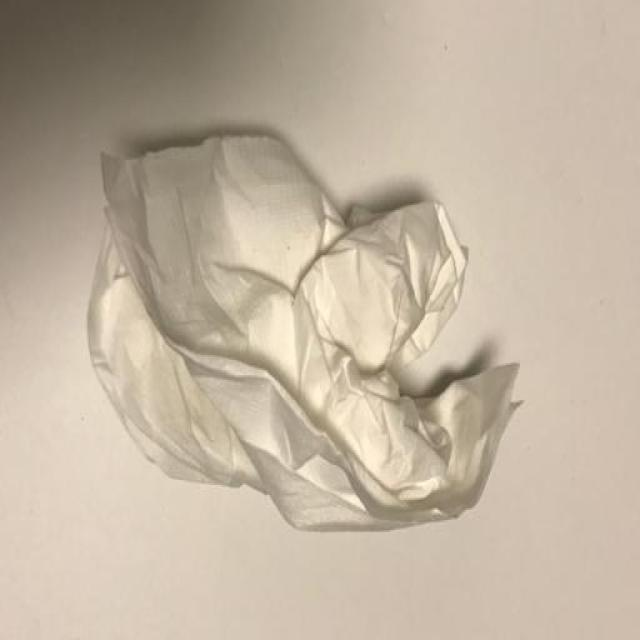Random Trash: (86, 130, 522, 533)
